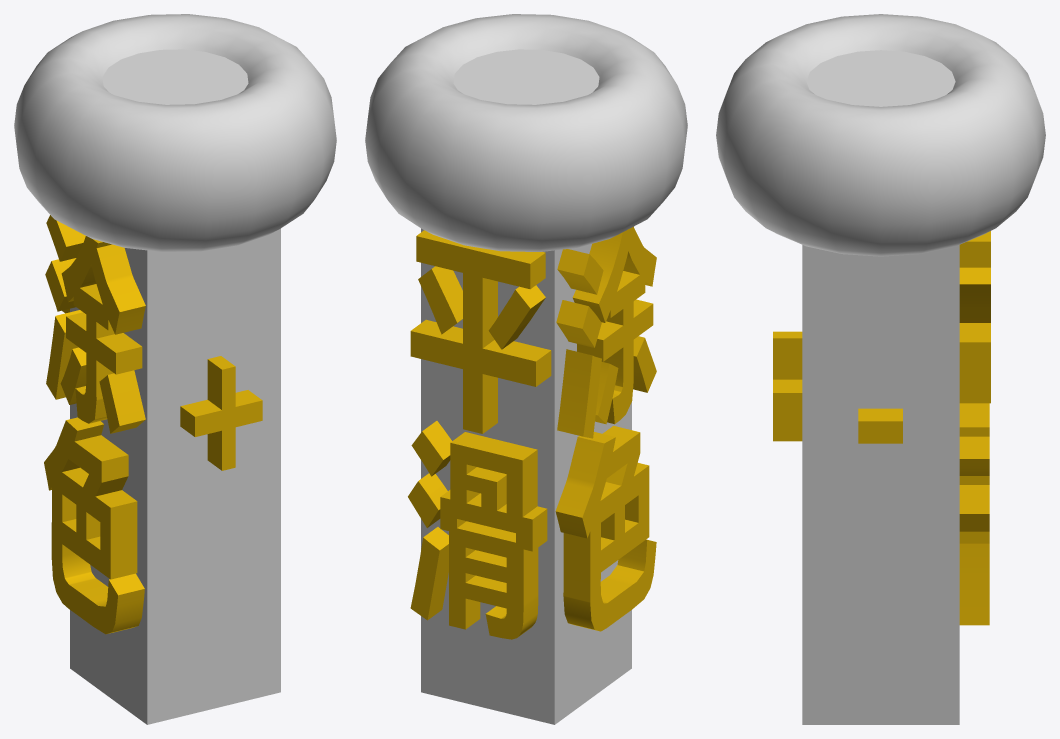
The model's file is HandModel.fbx.
The picture shows the model from 3 angles, left to right: view 1: azimuth 30°, elevation 25°; view 2: azimuth 150°, elevation 25°; view 3: azimuth 270°, elevation 25°; orthographic projection.
Visible parts, largest first — view 1: curve1; view 2: curve1; view 3: curve1.
Boxes of the visible parts, left/top/right/bottom form: curve1: left=14, top=14, right=336, bottom=724; curve1: left=365, top=14, right=687, bottom=724; curve1: left=716, top=14, right=1045, bottom=724.
Bounding box in the file's own units: 1.47 × 3.09 × 1.47.
